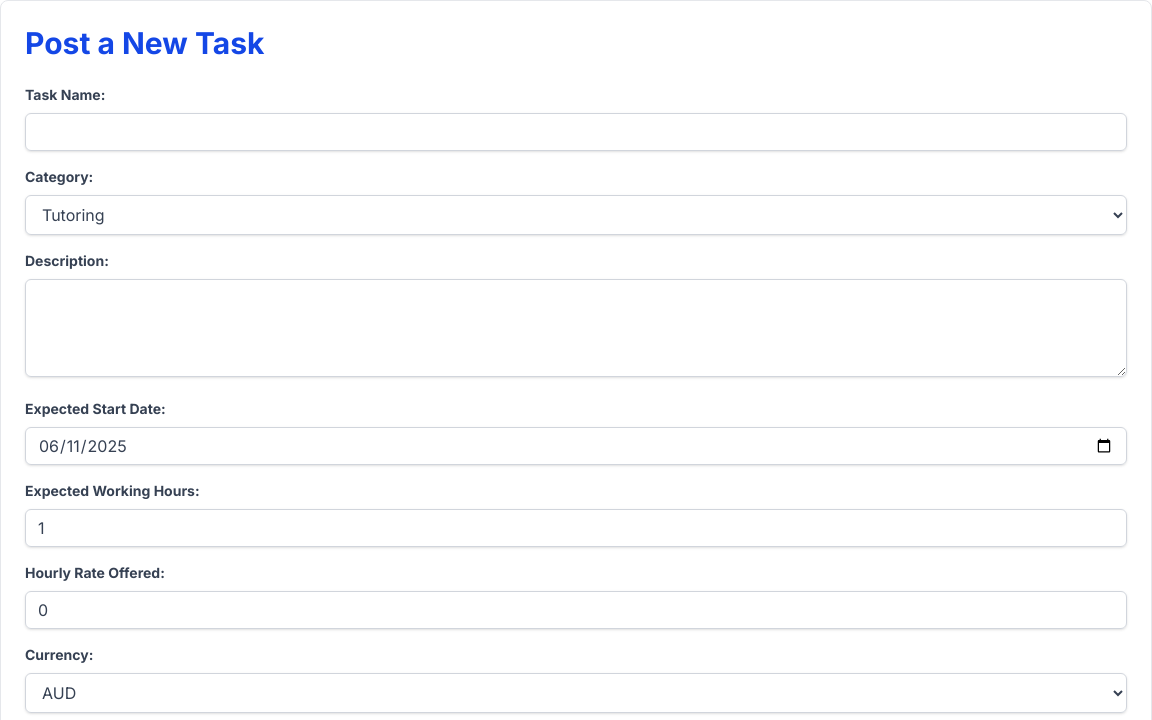
Test: CreateTaskPage › shows loading state on submit
Type "Test Task" into the field labelled "Task Name:" at {"x": 576, "y": 132}, box [25,113,1127,151]
(page scrolled)
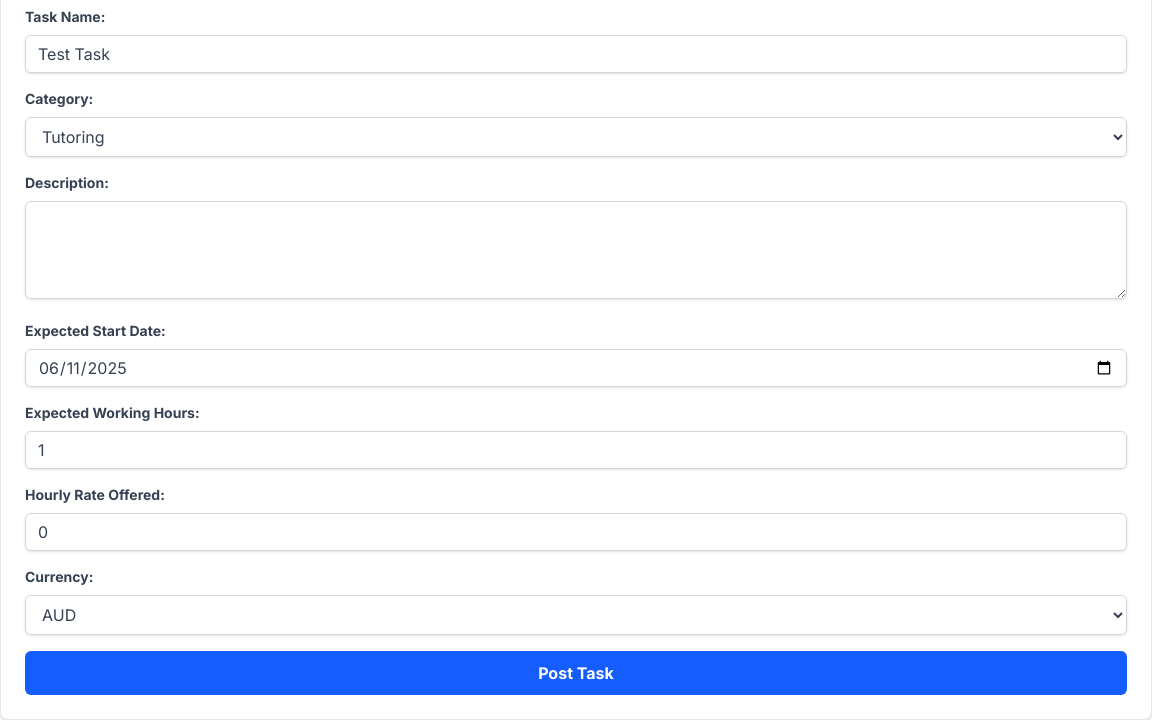
Click the button "Post Task" at {"x": 576, "y": 673}, box [25,651,1127,695]
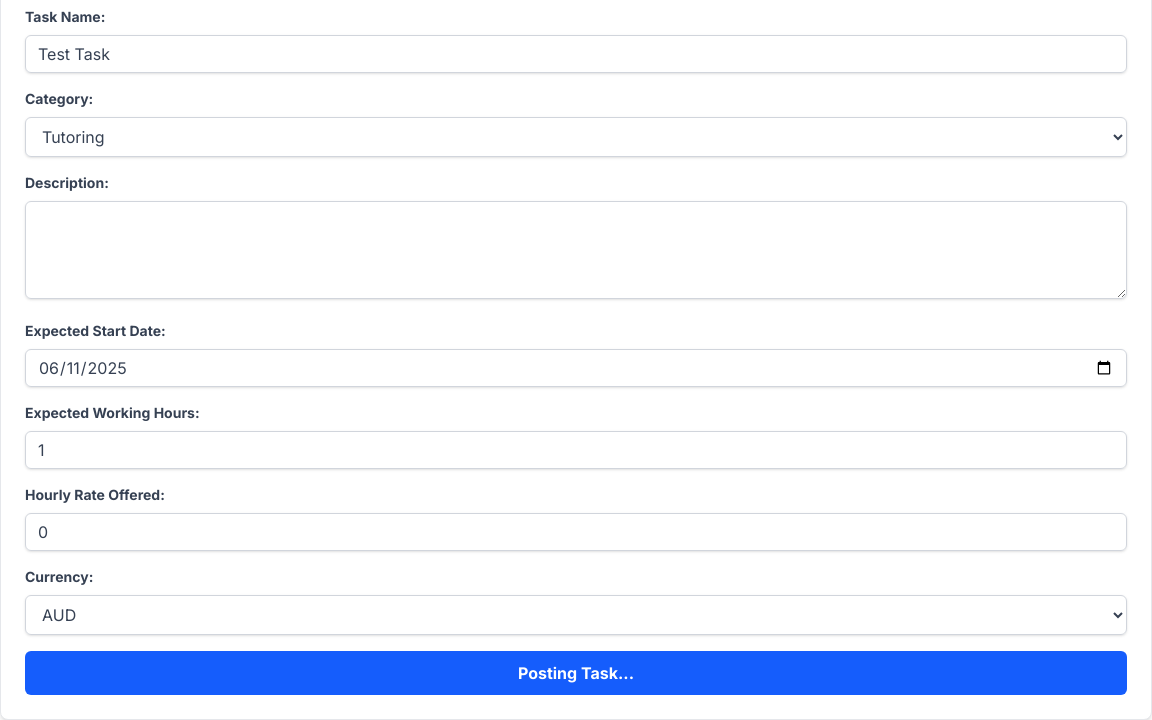
expect the button "Posting Task..." is disabled: met, box [25,651,1127,695]
